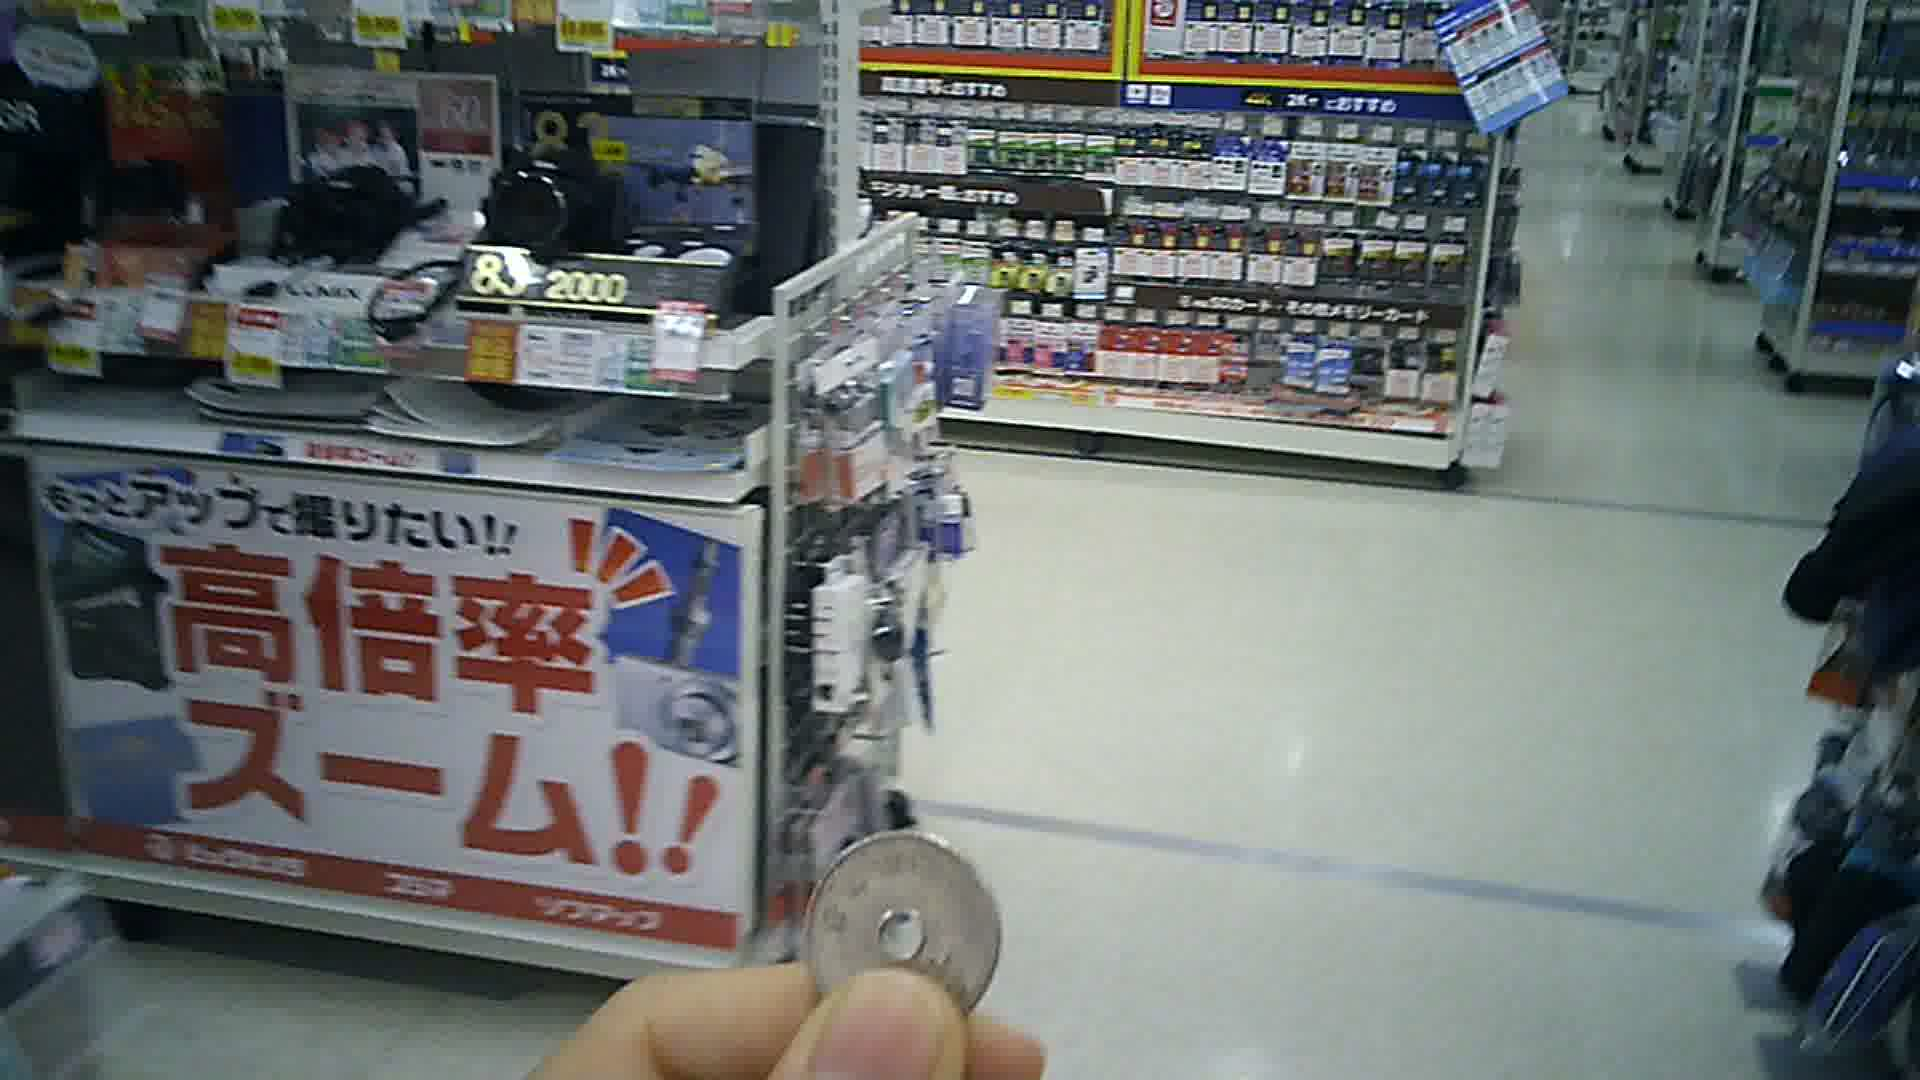50 Yen: (793, 831, 1001, 1039)
